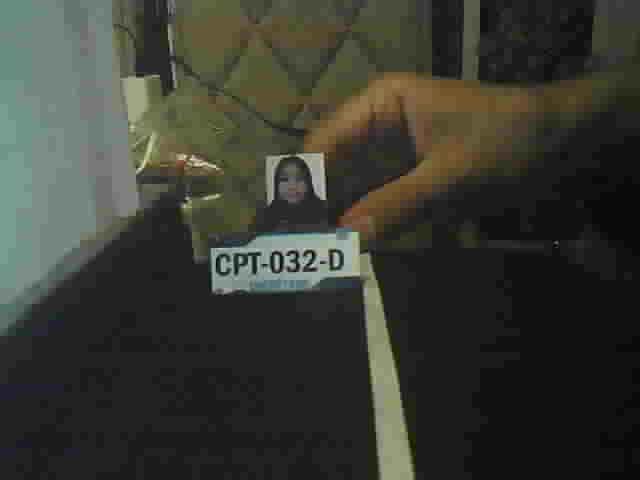PLACA: (207, 227, 361, 296)
ROSTRO: (265, 155, 328, 217)
